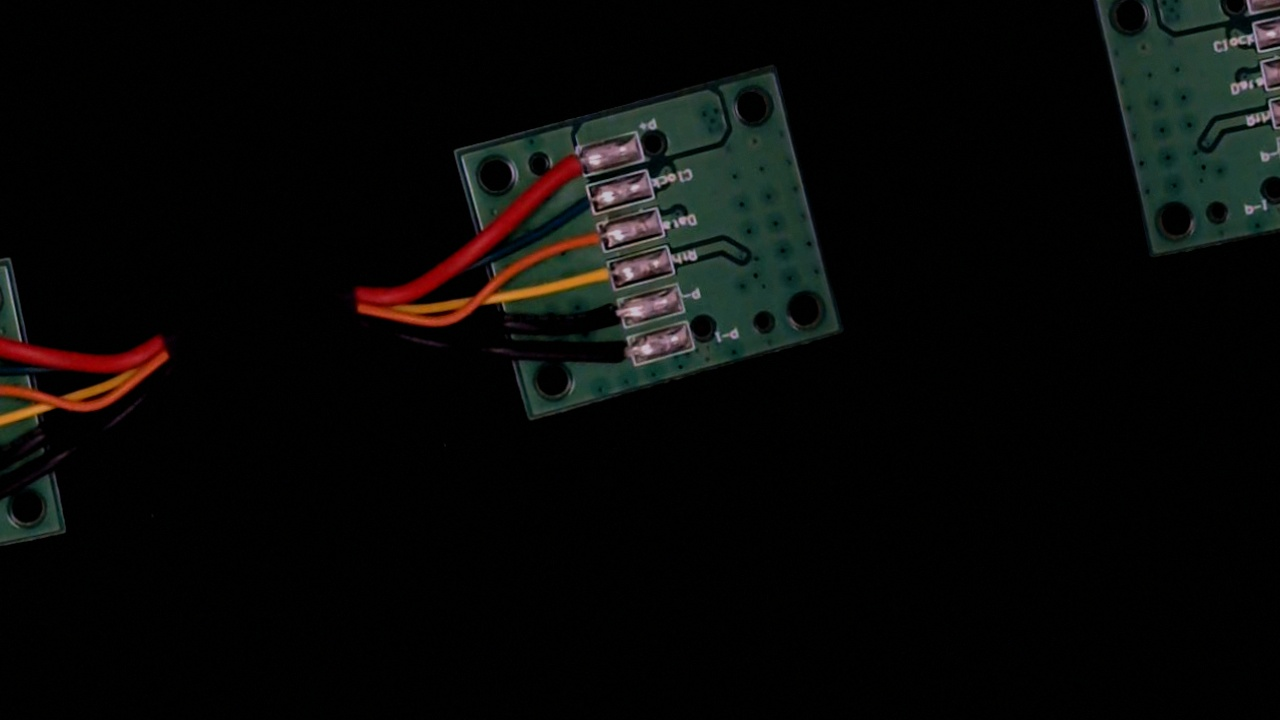Black: (559, 294, 639, 345)
Black1: (581, 335, 655, 383)
Green: (540, 180, 613, 230)
Orange: (541, 219, 619, 268)
Red: (524, 143, 600, 193)
Yellow: (553, 257, 633, 308)
